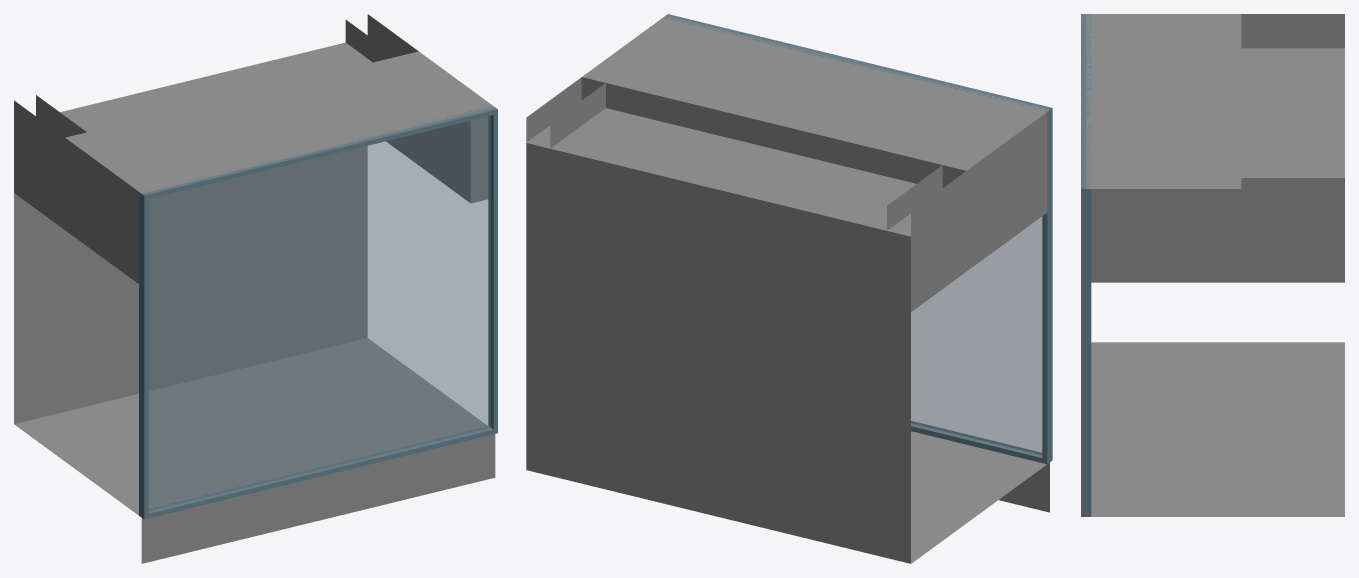
Rendered from officeBuilding01_windowBig.FBX.
3 renders of one model, left to right at view 1: azimuth 30°, elevation 25°; view 2: azimuth 150°, elevation 25°; view 3: azimuth 270°, elevation 25°, orthographic. The views are drawn at different scales.
Visible parts, largest first — view 1: officeBuilding01_windowBig; view 2: officeBuilding01_windowBig; view 3: officeBuilding01_windowBig.
Boxes of the visible parts, bbox=[...] form: officeBuilding01_windowBig: bbox=[14, 14, 497, 563]; officeBuilding01_windowBig: bbox=[526, 14, 1052, 563]; officeBuilding01_windowBig: bbox=[1081, 14, 1344, 516].
Size of the model in its own units: 400 by 400 by 255.
